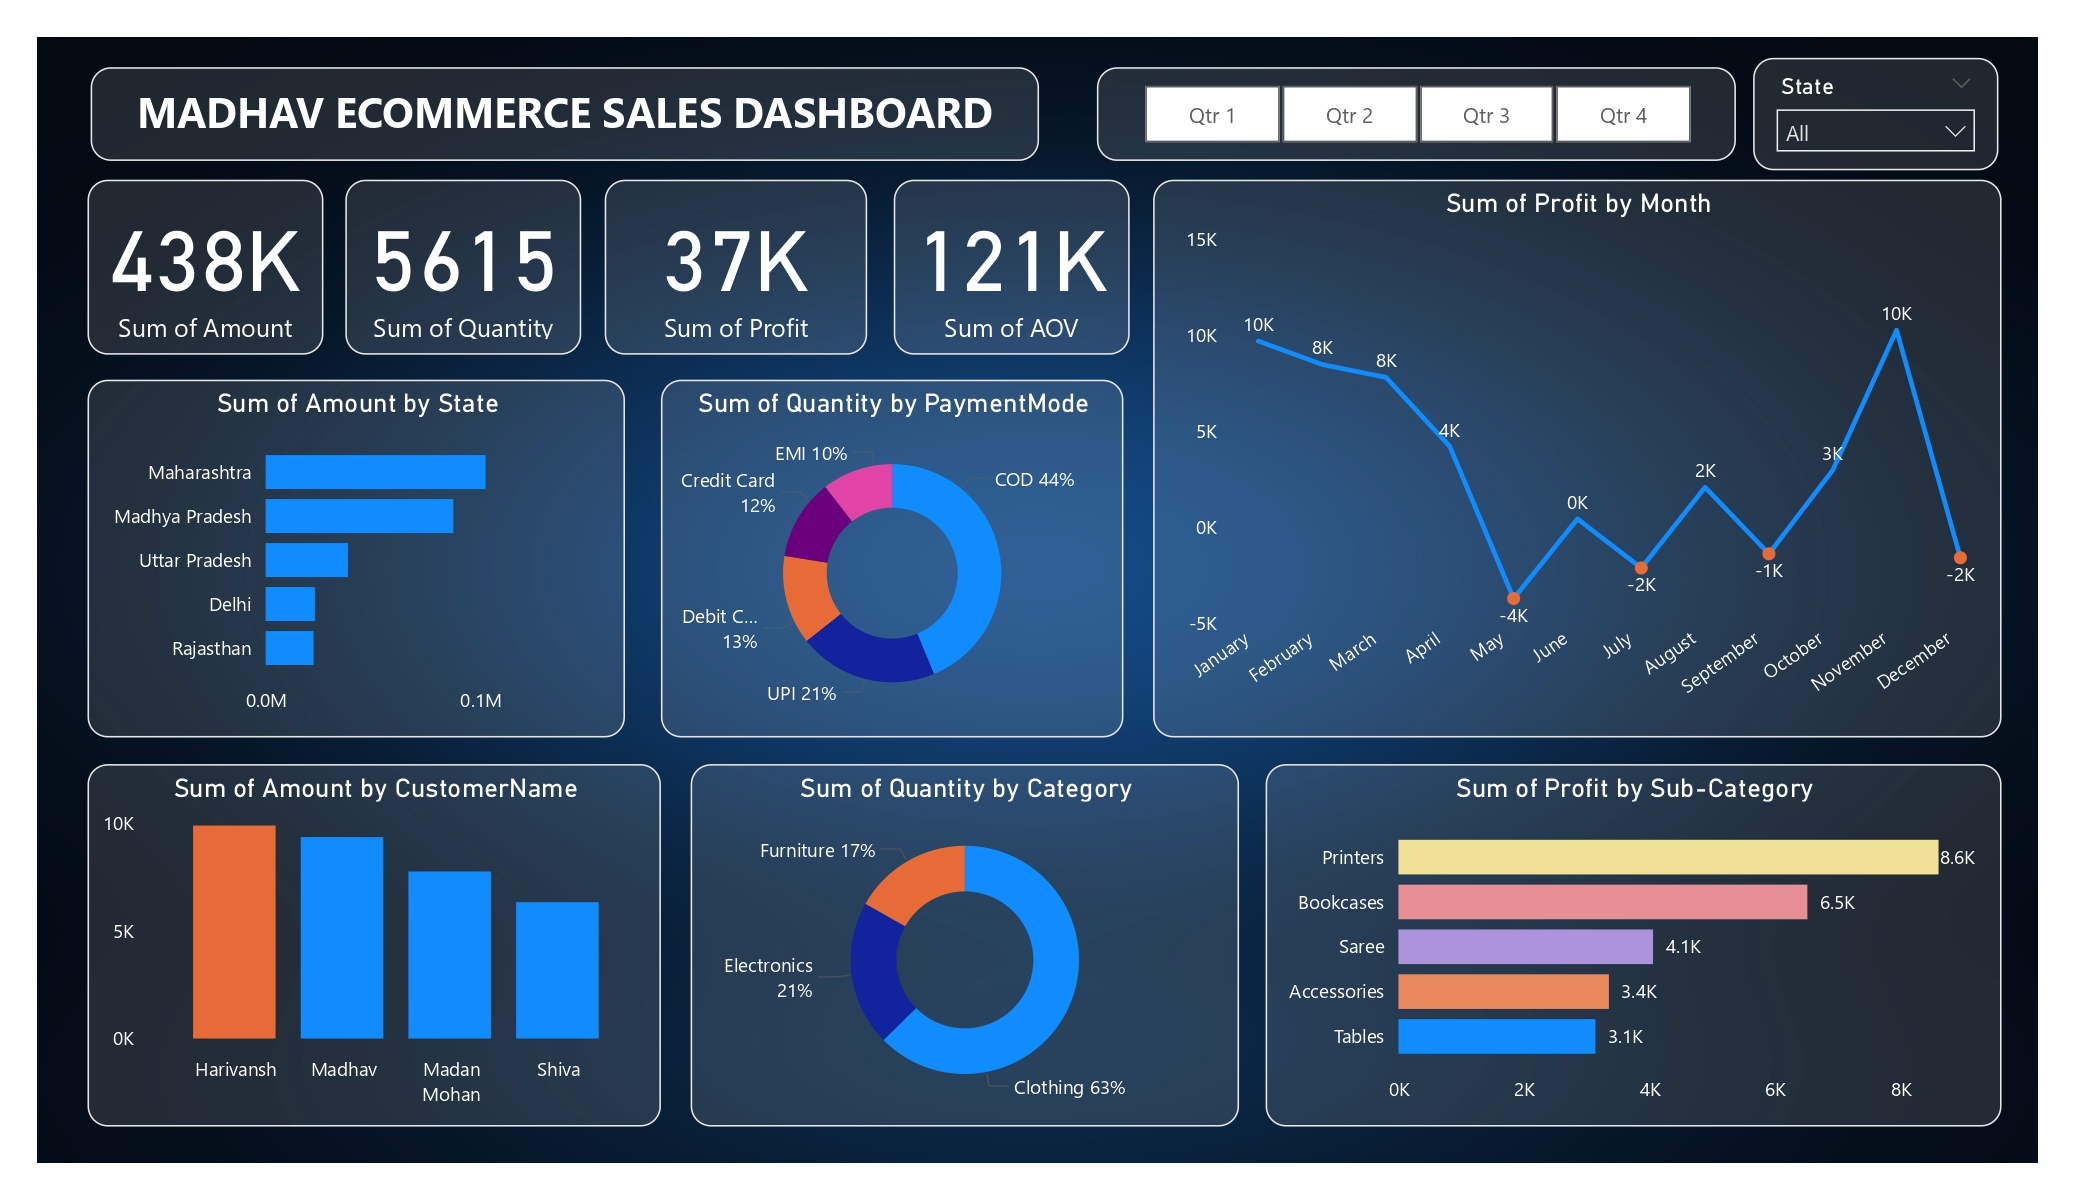

This screenshot's page, from the dashboard's own definition file:
{"tool":"powerbi","page":{"name":"Page 1","canvas":[1280,720],"ordinal":0},"visuals":[{"type":"textbox","box":[34,18.9,606.6,60.5],"z":0},{"type":"lineChart","fields":{"Category":["Orders.Order Date.Variation.Date Hierarchy.Month"],"Y":["Details.Profit"]},"box":[714.3,90.7,542.4,357.2],"z":1000},{"type":"barChart","fields":{"Category":["Details.Sub-Category"],"Y":["Details.Profit"]},"box":[786.1,464.9,470.6,232.4],"z":2000},{"type":"donutChart","fields":{"Category":["Details.Category"],"Y":["Details.Quantity"]},"box":[417.6,464.9,351.5,232.4],"z":3000},{"type":"donutChart","fields":{"Y":["Details.Quantity"],"Category":["Details.PaymentMode"]},"box":[398.7,219.5,296.7,228.7],"z":4000},{"type":"card","fields":{"Values":["Details.Amount"]},"box":[32.1,91.3,151.2,111.5],"z":5000},{"type":"card","fields":{"Values":["Details.Quantity"]},"box":[196.5,91.3,151.2,111.5],"z":6000},{"type":"card","fields":{"Values":["Details.Profit"]},"box":[362.8,91.3,168.2,111.5],"z":7000},{"type":"card","fields":{"Values":["Details.AOV"]},"box":[548,91.3,151.2,111.5],"z":8000},{"type":"barChart","fields":{"Category":["Orders.State"],"Y":["Details.Amount"]},"box":[32.1,219.2,343.9,228.7],"z":9000},{"type":"columnChart","fields":{"Y":["Details.Amount"],"Category":["Orders.CustomerName"]},"box":[32.1,464.9,366.6,232.4],"z":10000},{"type":"slicer","fields":{"Values":["Orders.Order Date.Variation.Date Hierarchy.Quarter"]},"box":[678.4,18.9,408.2,60.5],"z":11000},{"type":"slicer","fields":{"Values":["Orders.State"]},"box":[1098,13.2,156.9,71.8],"z":12000}]}

Visuals, with their boxes on the page's 1280x720 design canvas (x1, y1, x2, y2). These are canvas units, not pixel positions in the 2075x1200 screenshot, which may show the page scaled, cropped or inside an application window:
textbox: [left=34, top=19, right=641, bottom=79]
lineChart - Orders.Order Date.Variation.Date Hierarchy.Month x Details.Profit: [left=714, top=91, right=1257, bottom=448]
barChart - Details.Sub-Category x Details.Profit: [left=786, top=465, right=1257, bottom=697]
donutChart - Details.Category x Details.Quantity: [left=418, top=465, right=769, bottom=697]
donutChart - Details.Quantity x Details.PaymentMode: [left=399, top=220, right=695, bottom=448]
card - Details.Amount: [left=32, top=91, right=183, bottom=203]
card - Details.Quantity: [left=196, top=91, right=348, bottom=203]
card - Details.Profit: [left=363, top=91, right=531, bottom=203]
card - Details.AOV: [left=548, top=91, right=699, bottom=203]
barChart - Orders.State x Details.Amount: [left=32, top=219, right=376, bottom=448]
columnChart - Details.Amount x Orders.CustomerName: [left=32, top=465, right=399, bottom=697]
slicer - Orders.Order Date.Variation.Date Hierarchy.Quarter: [left=678, top=19, right=1087, bottom=79]
slicer - Orders.State: [left=1098, top=13, right=1255, bottom=85]
